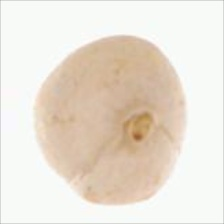L3: (122, 109, 156, 143)
L4: (33, 34, 186, 205)
